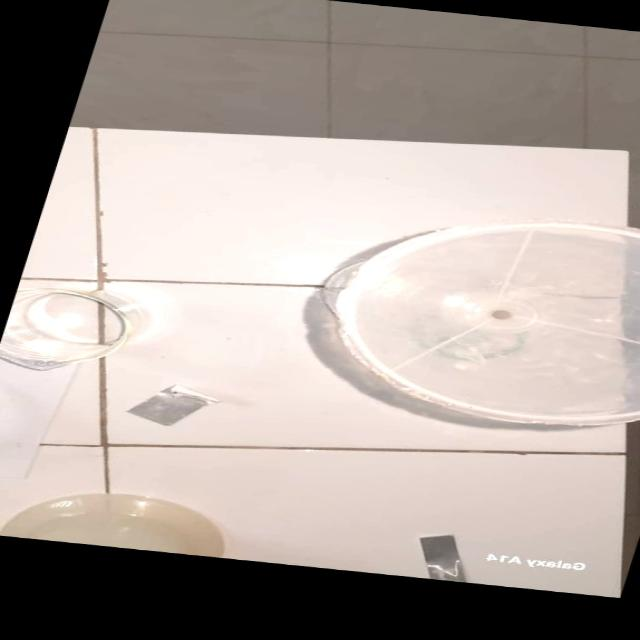Funnel: (299, 198, 640, 446)
